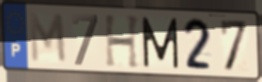2: (181, 16, 216, 73)
7: (219, 18, 250, 74), (71, 12, 100, 67)
H: (103, 14, 142, 71)
M: (27, 11, 69, 66), (140, 15, 181, 70)
